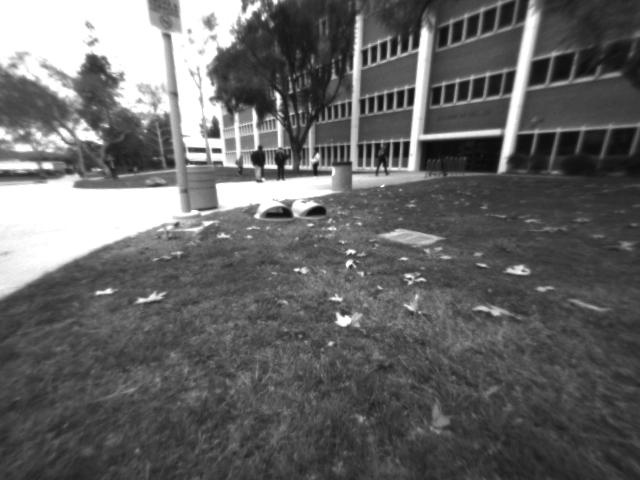trashcan: (328, 161, 356, 193)
